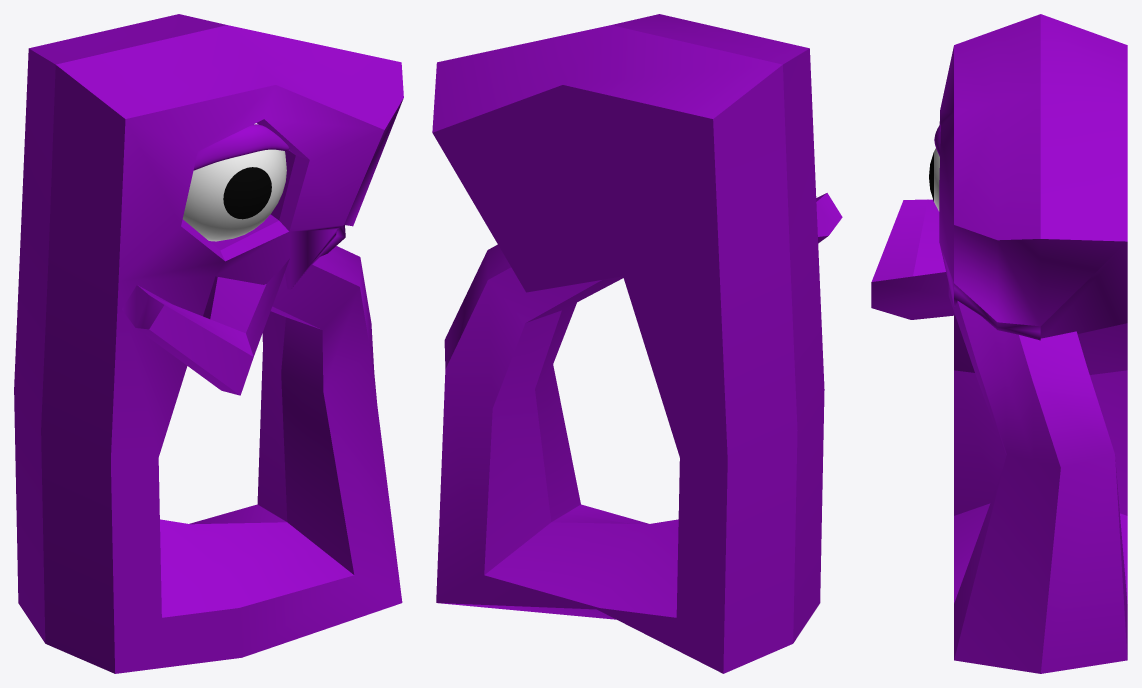
The picture shows the model from 3 angles, left to right: view 1: azimuth 30°, elevation 25°; view 2: azimuth 150°, elevation 25°; view 3: azimuth 270°, elevation 25°; orthographic projection. The views are drawn at different scales.
Visible parts, largest first — view 1: Line001, Sphere002, Box001; view 2: Line001; view 3: Line001, Sphere002.
Boxes of the visible parts, box(x1,y1,x2,y2) form: Line001: box(14, 14, 403, 673); Sphere002: box(182, 123, 286, 241); Box001: box(193, 124, 289, 170); Line001: box(432, 14, 842, 673); Line001: box(871, 14, 1127, 673); Sphere002: box(929, 148, 939, 211).
Size of the model in its own units: 0.1061 by 0.1663 by 0.0728.
